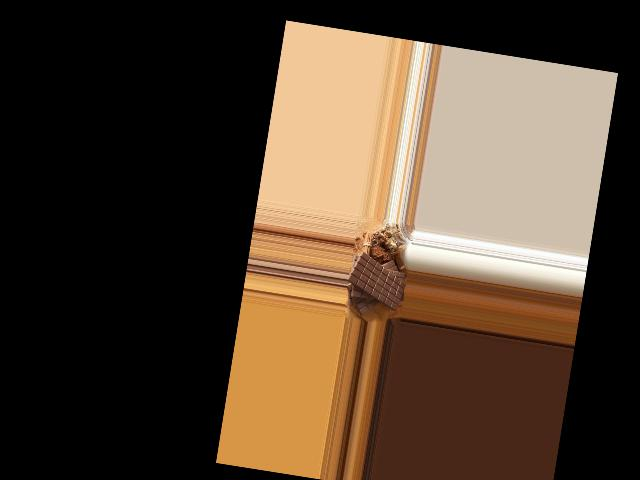chocolate: (344, 247, 408, 312)
